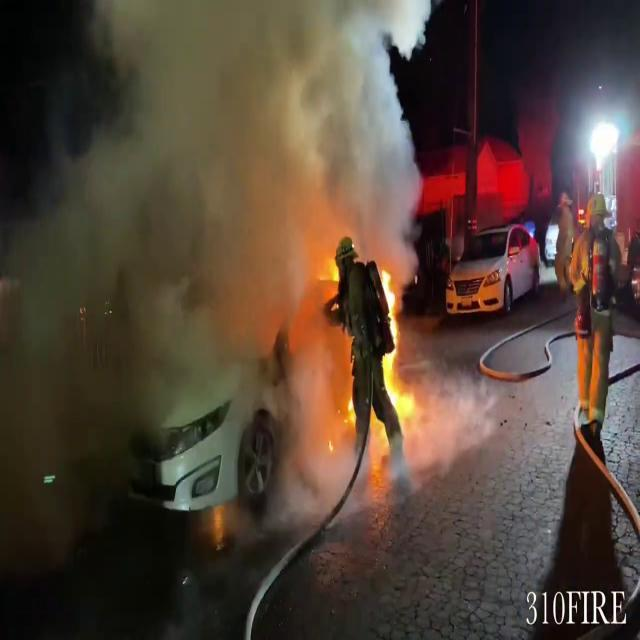Smoke: (1, 1, 420, 488)
